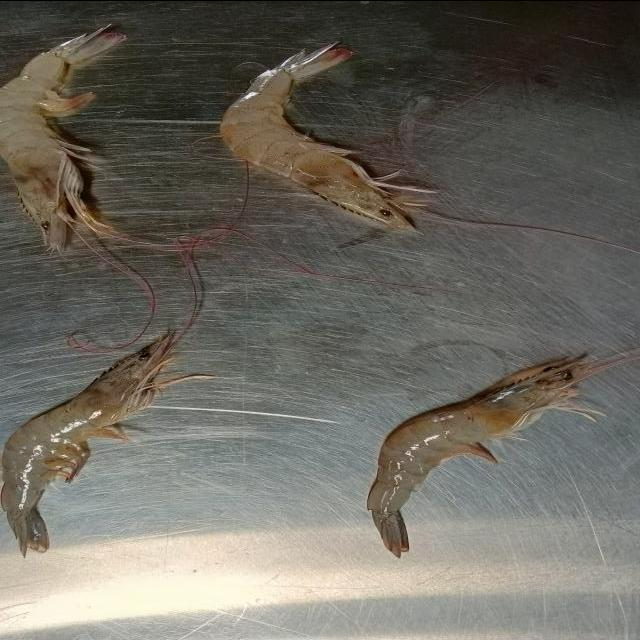shrimp: (367, 355, 635, 555), (0, 334, 208, 554), (219, 45, 427, 231), (0, 29, 126, 249)
